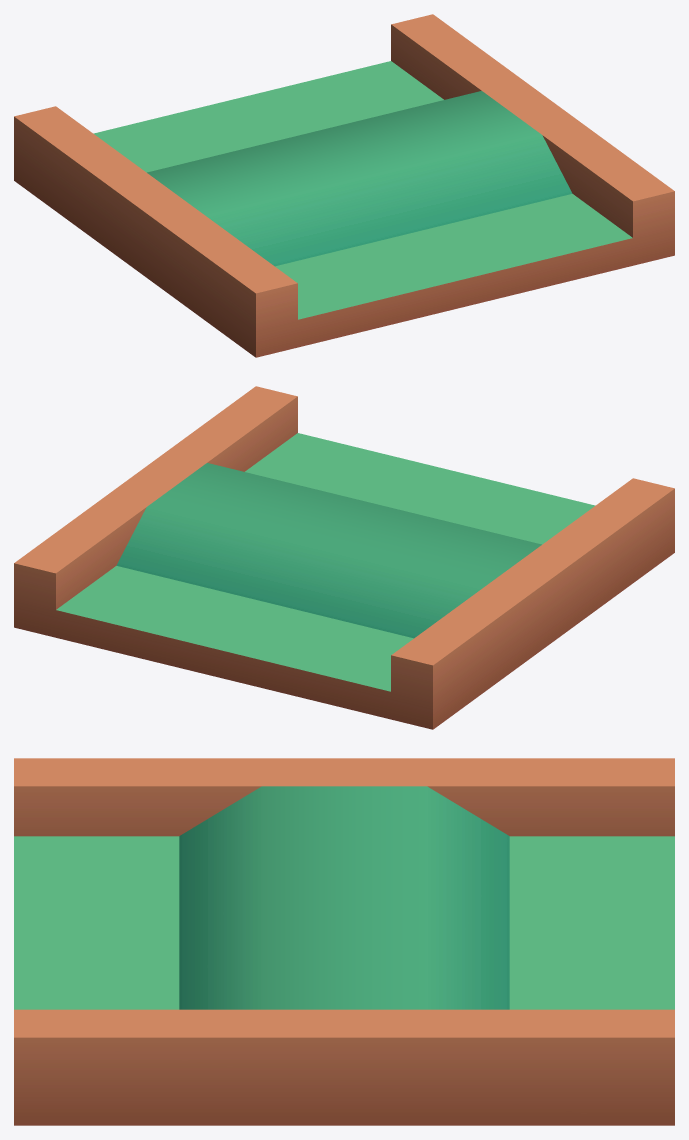
The model's file is hill-square.glb.
3 renders of one model, top to bottom at view 1: azimuth 30°, elevation 25°; view 2: azimuth 150°, elevation 25°; view 3: azimuth 270°, elevation 25°, orthographic. The views are drawn at different scales.
Parts seen in each view (by area): view 1: hill-square; view 2: hill-square; view 3: hill-square.
Boxes of the visible parts, left/top/right/bottom form: hill-square: left=14, top=14, right=674, bottom=357; hill-square: left=14, top=386, right=674, bottom=729; hill-square: left=14, top=758, right=674, bottom=1125.
Bounding box in the file's own units: 0.9999 × 0.1466 × 0.9999.
1 material, 1 textured.
